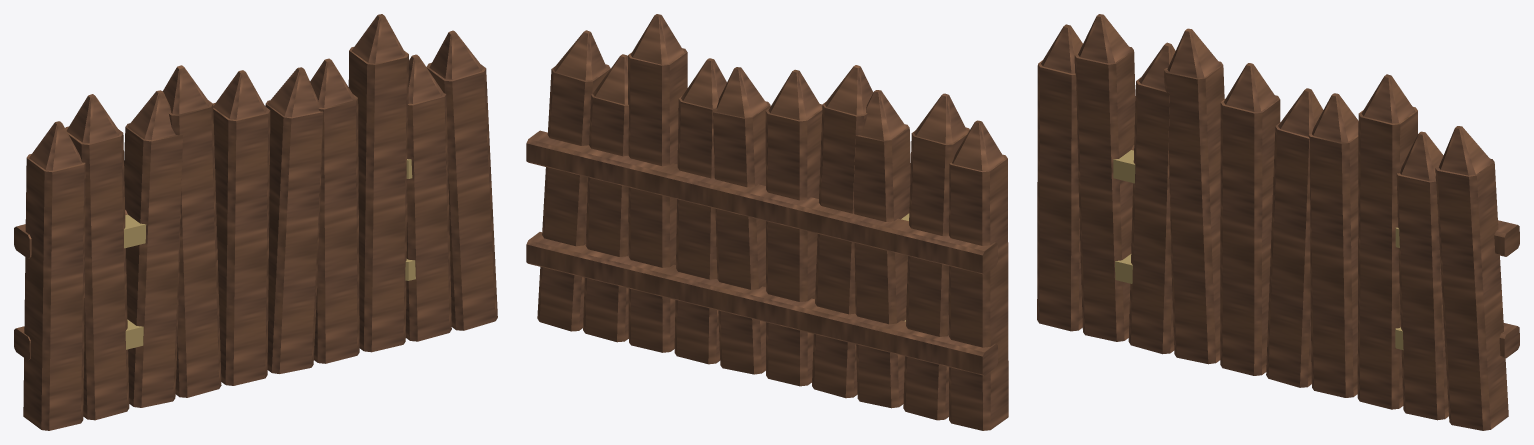
File: palisade.glb
3 renders of one model, left to right at view 1: azimuth 30°, elevation 25°; view 2: azimuth 150°, elevation 25°; view 3: azimuth 330°, elevation 25°, orthographic.
Visible parts, largest first — view 1: Palisade; view 2: Palisade; view 3: Palisade.
Part boxes in pixels (x1=…): Palisade: x1=14, y1=14, x2=497, y2=430; Palisade: x1=526, y1=14, x2=1008, y2=430; Palisade: x1=1037, y1=14, x2=1519, y2=430.
Bounding box in the file's own units: 3.2 × 2.18 × 0.3925.
Materials: 2 (1 with a texture image).
